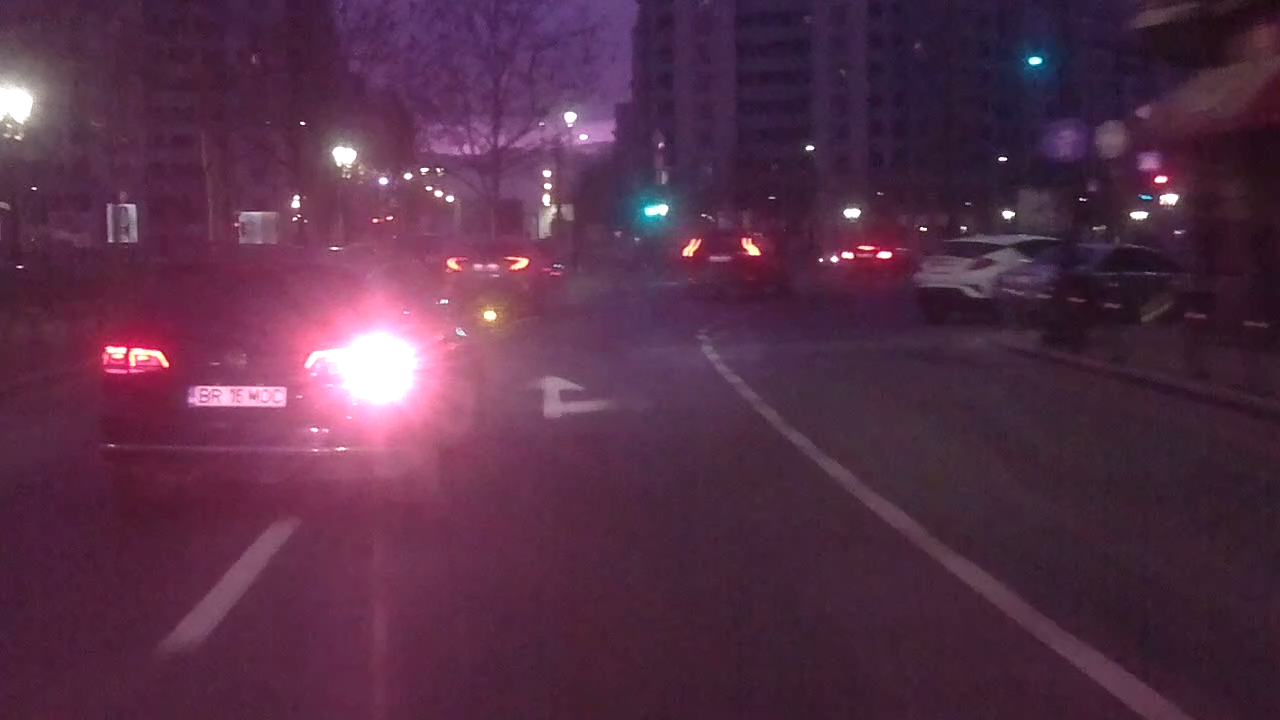license-plate: (183, 382, 290, 410)
